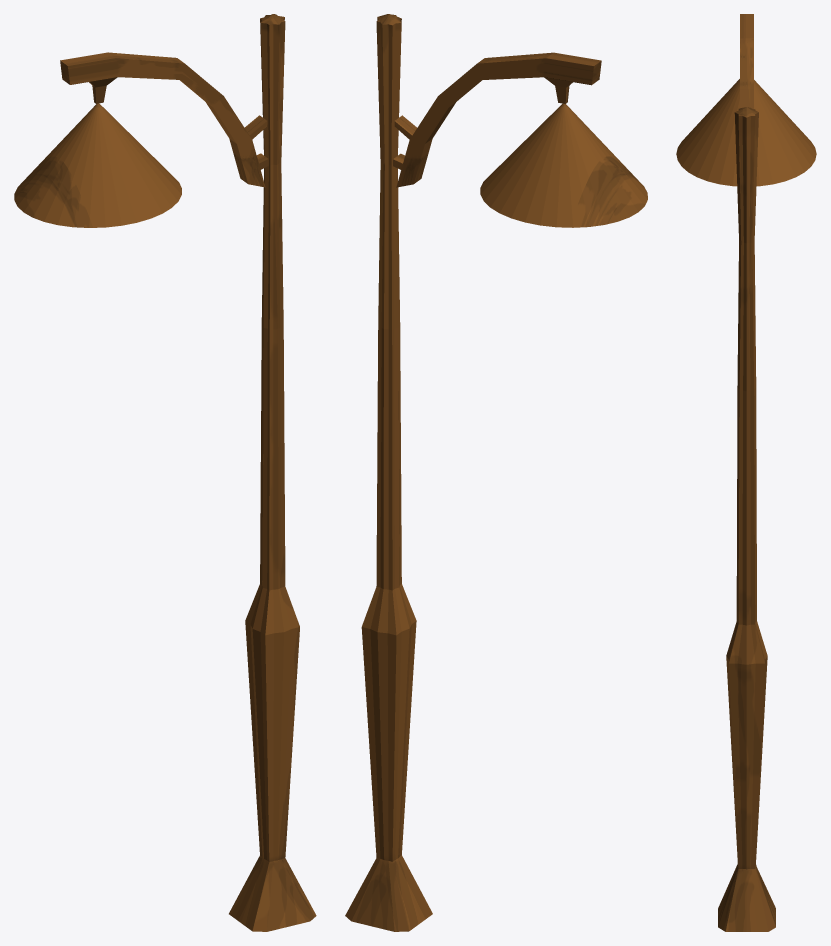
File: EELamp.fbx
3 views of the same model, side by side, from view 1: azimuth 30°, elevation 25°; view 2: azimuth 150°, elevation 25°; view 3: azimuth 270°, elevation 25° (orthographic). The views are drawn at different scales.
Parts seen in each view (by area): view 1: Cube.001; view 2: Cube.001; view 3: Cube.001.
Part boxes in pixels (x1=…): Cube.001: x1=14, y1=14, x2=316, y2=931; Cube.001: x1=345, y1=14, x2=647, y2=931; Cube.001: x1=676, y1=14, x2=816, y2=931.
Size of the model in its own units: 1328 by 4071 by 637.
Materials: 1 (1 with a texture image).
